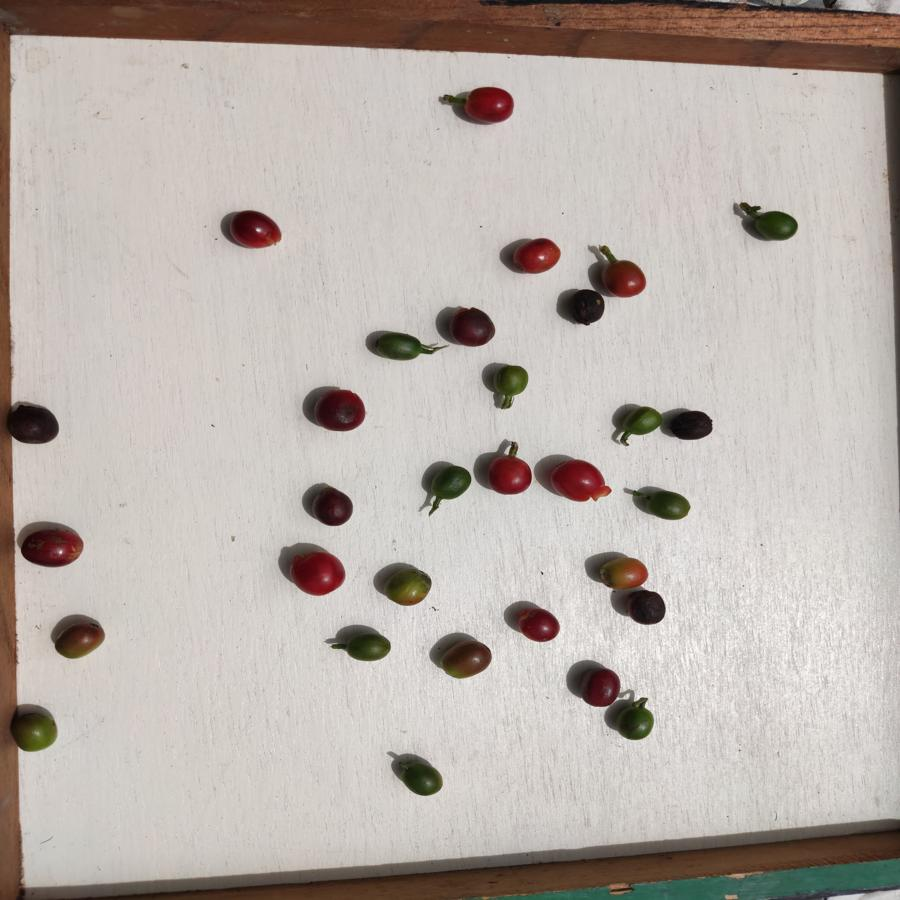Inmaduro: (399, 758, 449, 803), (749, 205, 802, 245), (371, 330, 426, 365), (641, 489, 693, 523), (426, 465, 473, 501), (489, 361, 532, 400), (342, 629, 392, 662), (615, 702, 657, 741), (619, 402, 661, 439)
Maduro: (288, 549, 347, 597), (548, 458, 609, 503), (484, 452, 535, 495), (510, 235, 562, 276), (463, 86, 516, 124), (601, 259, 648, 297)
Pinton: (8, 702, 63, 753), (50, 618, 107, 661), (438, 638, 492, 680), (383, 564, 432, 607), (595, 555, 651, 589)
Sobremaduro: (4, 401, 59, 450), (225, 209, 288, 250), (19, 527, 83, 567), (313, 388, 366, 432), (664, 405, 716, 443), (449, 308, 497, 348), (514, 607, 562, 646), (309, 484, 354, 525), (580, 667, 620, 707), (625, 587, 667, 625), (566, 288, 608, 323)
